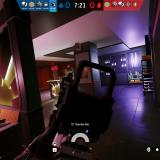Character: (59, 72, 86, 96)
Friend_label: (61, 64, 76, 72)
Head: (68, 72, 74, 80)
